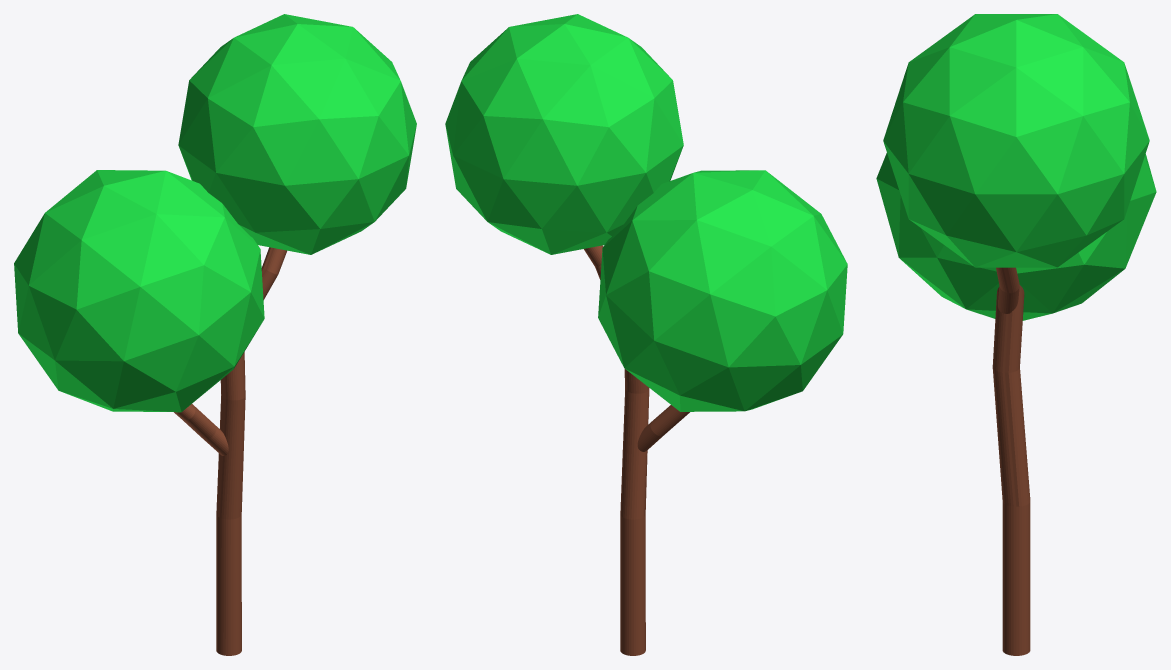
Rendered from a_sample_tree.gltf.
3 views of the same model, side by side, from view 1: azimuth 30°, elevation 25°; view 2: azimuth 150°, elevation 25°; view 3: azimuth 270°, elevation 25° (orthographic). The views are drawn at different scales.
Visible parts, largest first — view 1: Icosphere.001, Icosphere, Cylinder, Cylinder.002, Cylinder.001; view 2: Icosphere.001, Icosphere, Cylinder, Cylinder.002; view 3: Icosphere, Icosphere.001, Cylinder, Cylinder.001.
Boxes of the visible parts, x1=… form: Icosphere.001: x1=14, y1=170, x2=264, y2=412; Icosphere: x1=178, y1=14, x2=416, y2=254; Cylinder: x1=216, y1=352, x2=245, y2=655; Cylinder.002: x1=174, y1=404, x2=228, y2=455; Cylinder.001: x1=261, y1=247, x2=286, y2=299; Icosphere.001: x1=598, y1=170, x2=847, y2=411; Icosphere: x1=445, y1=14, x2=683, y2=254; Cylinder: x1=620, y1=369, x2=649, y2=655; Cylinder.002: x1=637, y1=405, x2=689, y2=451; Icosphere: x1=883, y1=14, x2=1149, y2=267; Icosphere.001: x1=876, y1=153, x2=1156, y2=320; Cylinder: x1=992, y1=285, x2=1030, y2=655; Cylinder.001: x1=996, y1=267, x2=1019, y2=313.
Bounding box in the file's own units: 5.62 × 8.94 × 3.41.
